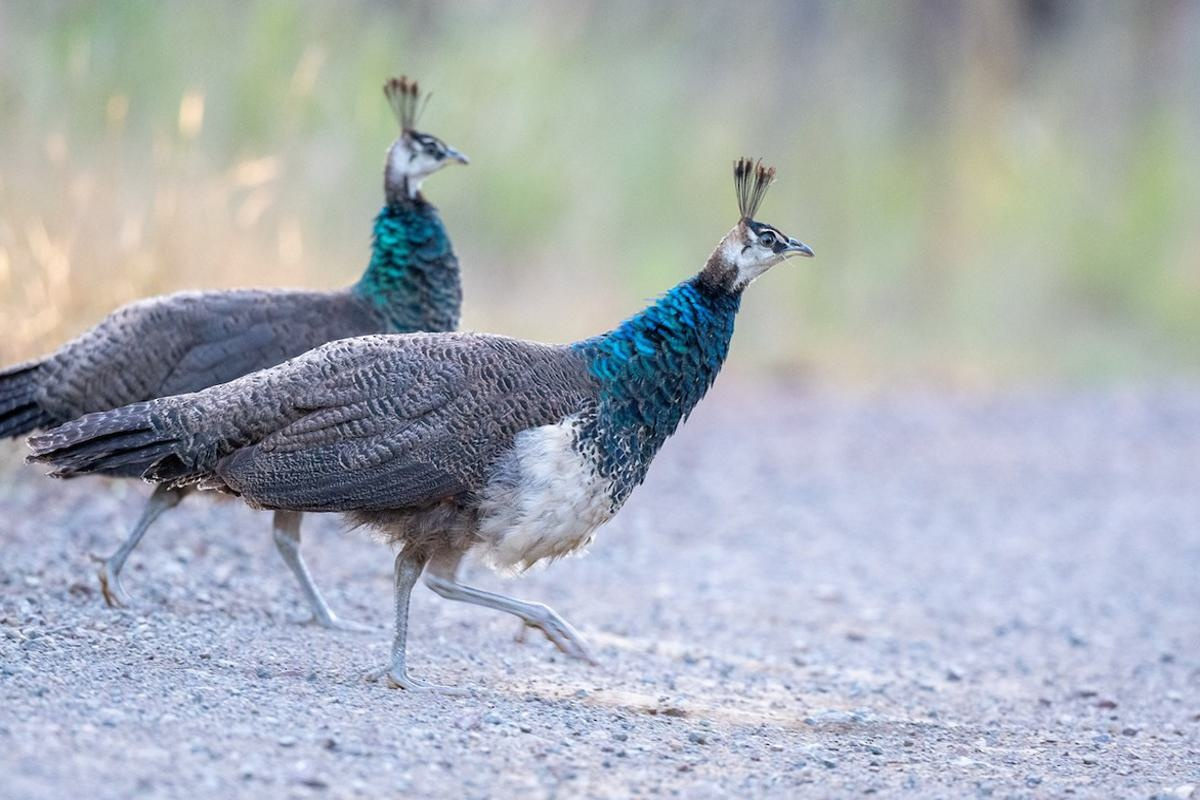peacock: (114, 124, 855, 677), (16, 81, 534, 406)
